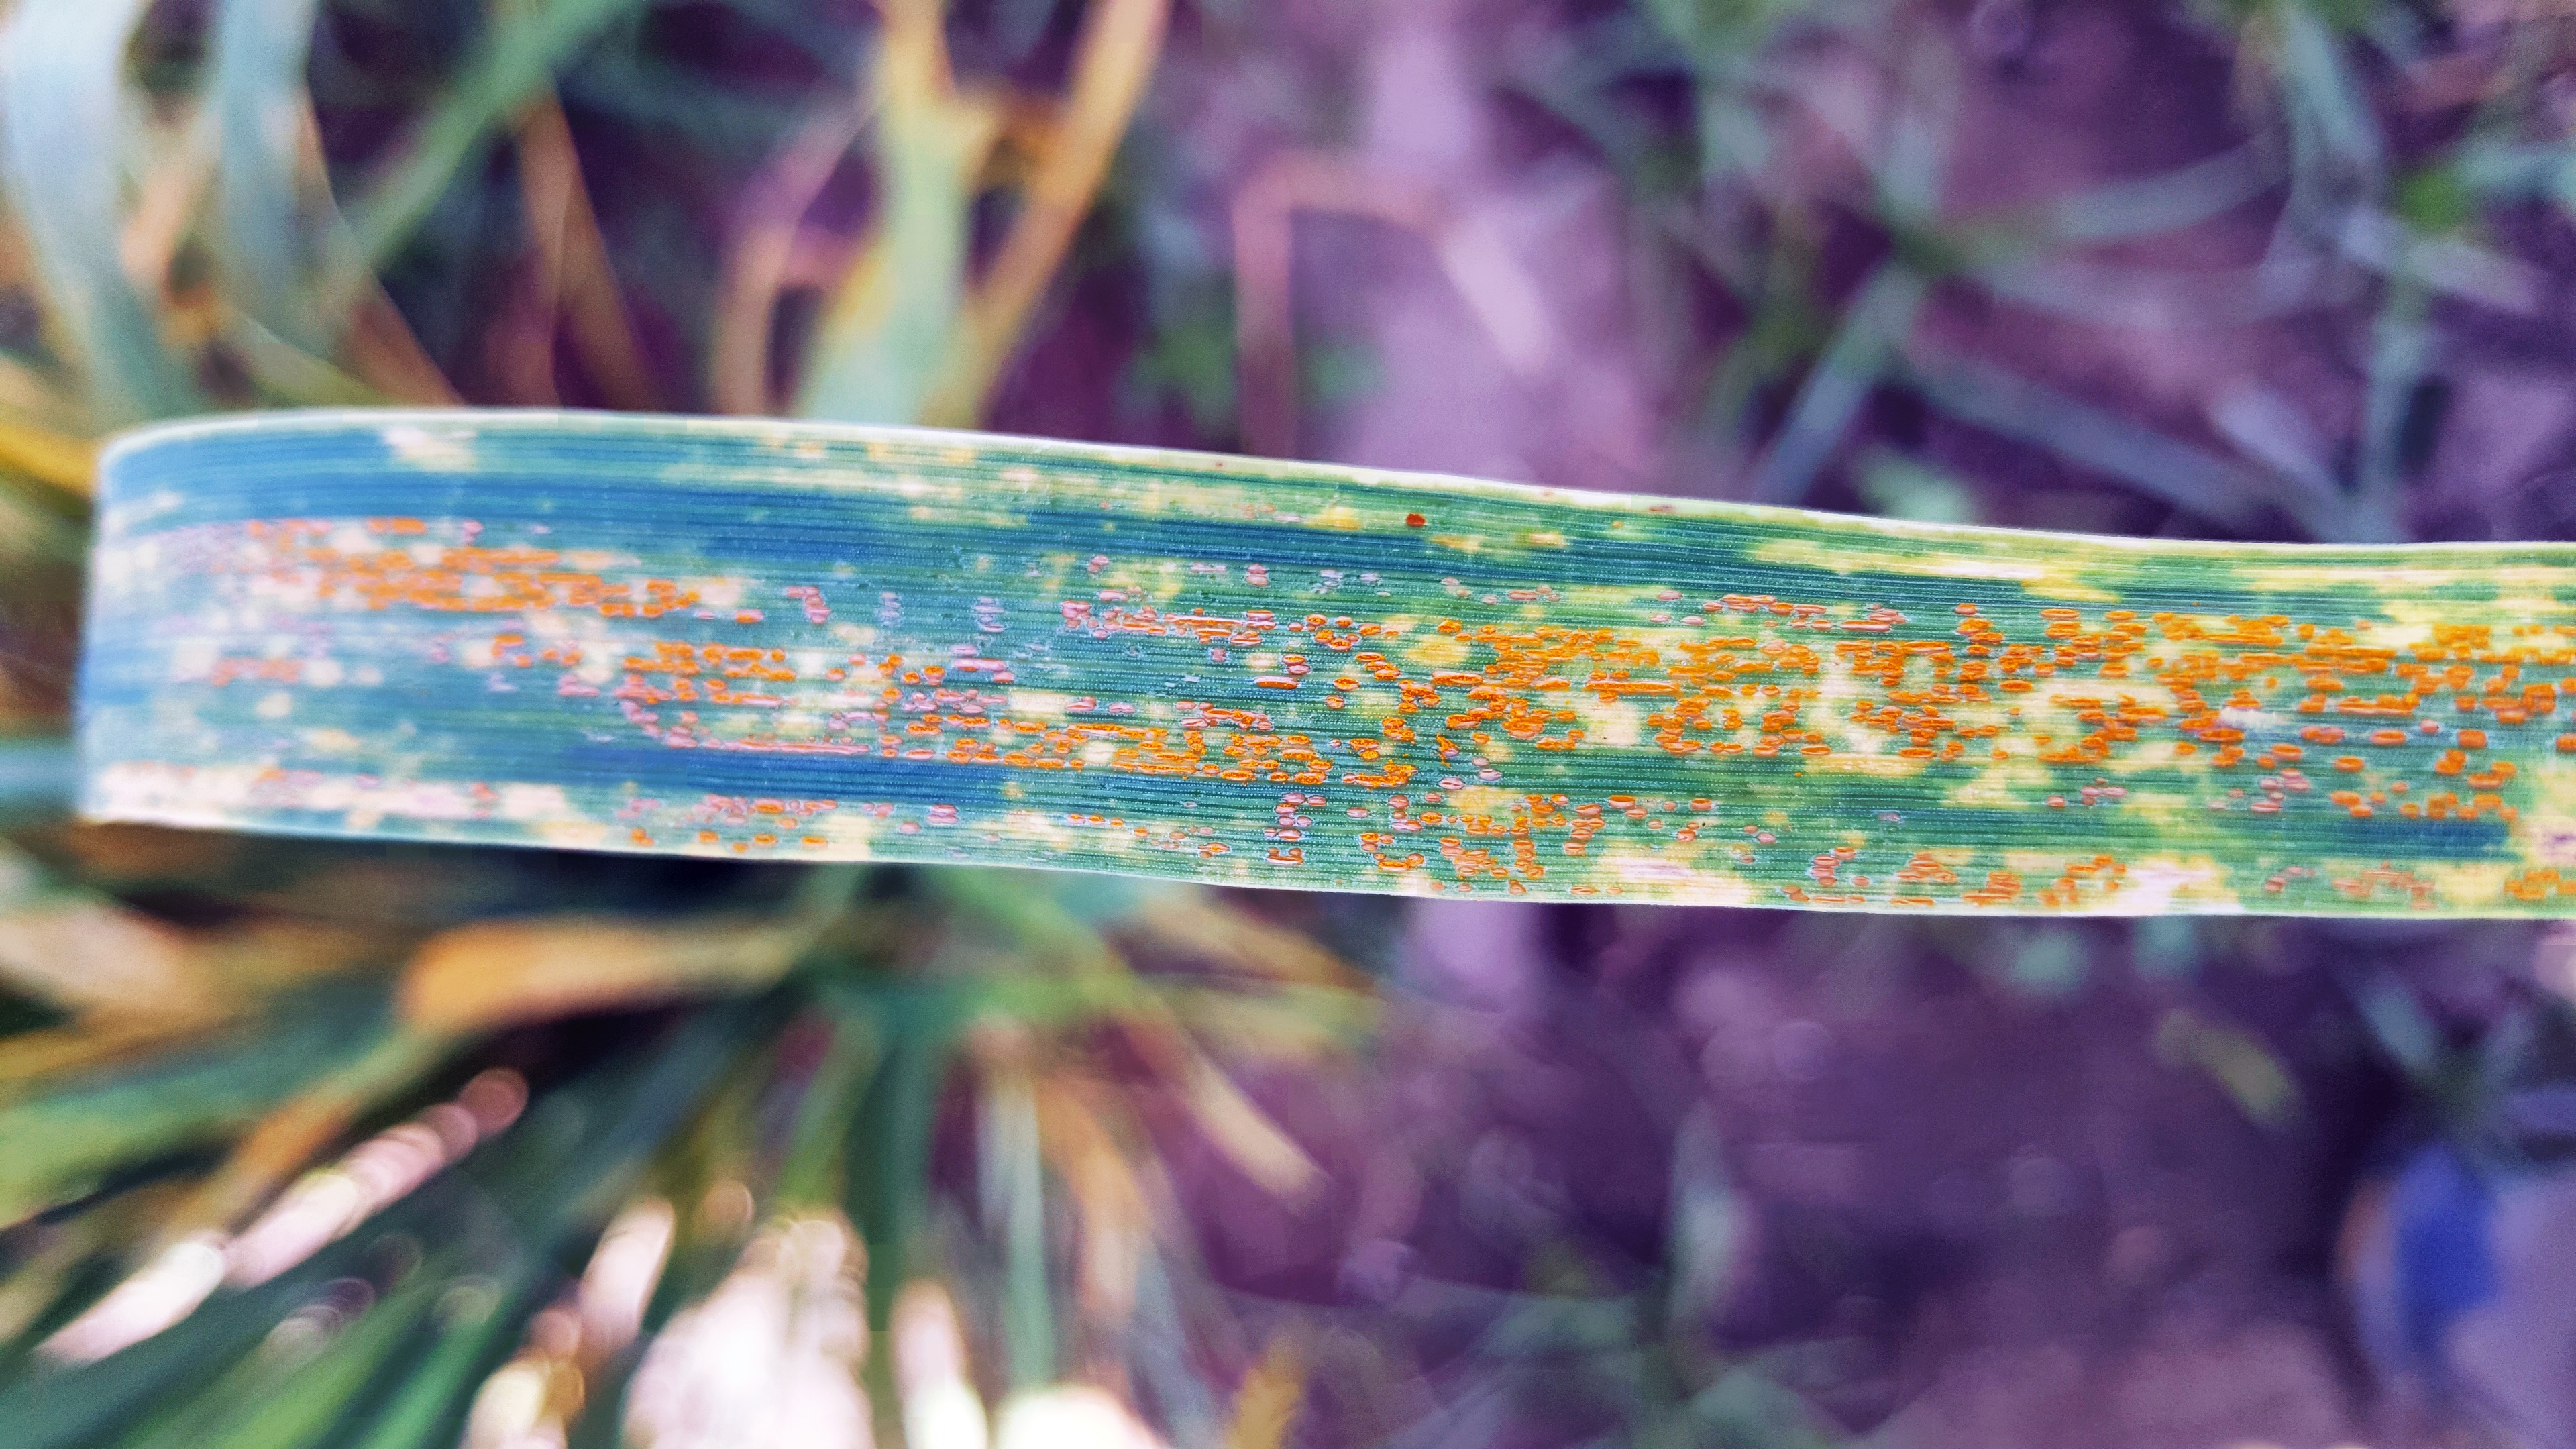Leaf Rust: (771, 460, 2459, 924)
